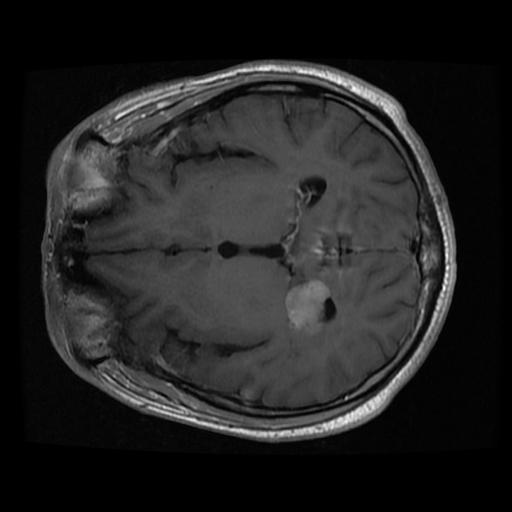meningioma: (282, 279, 331, 335)
